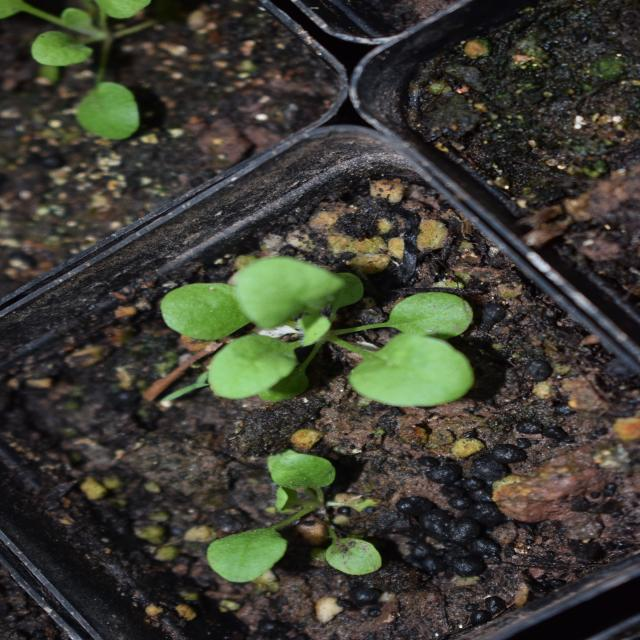Shepherd_Purse: (209, 136, 381, 477), (42, 196, 205, 366)
